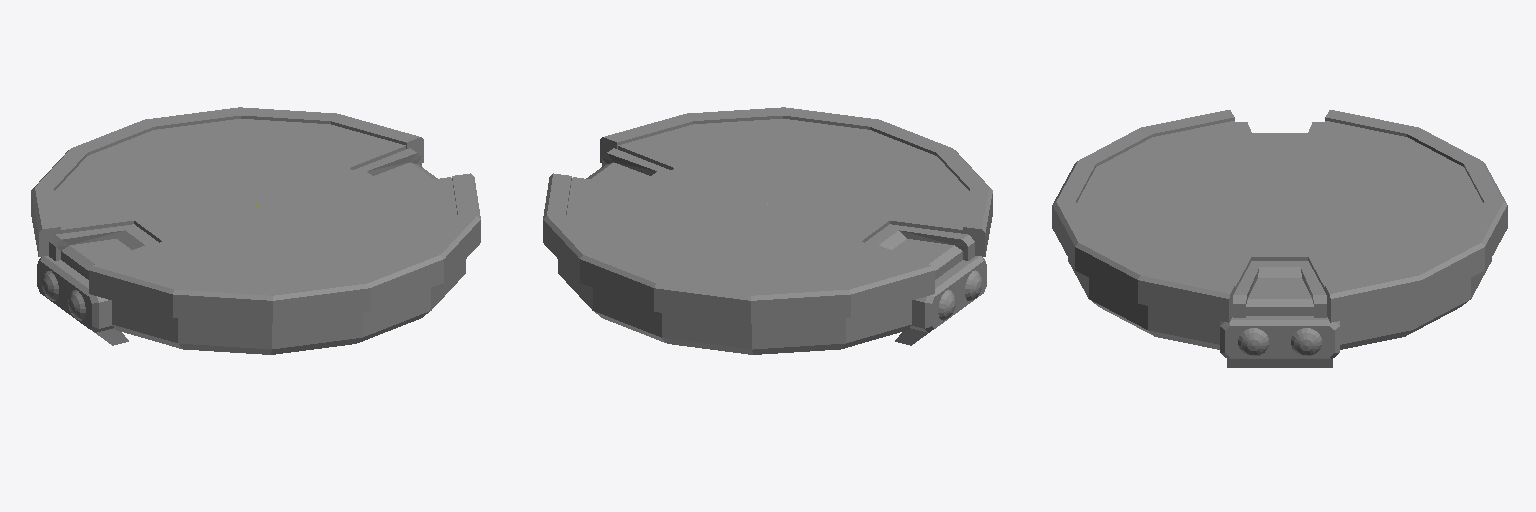
The model's file is cpz_obj_floorA_5b_M.obj.
3 views of the same model, side by side, from view 1: azimuth 30°, elevation 25°; view 2: azimuth 150°, elevation 25°; view 3: azimuth 270°, elevation 25° (orthographic).
Visible parts, largest first — view 1: cpz_metal_tn1_footholdA_floor, ccp_metal_yy_yelow_Cmn_dpn, cpz_metal_tn1_footholdA_001, ccp_etc_yy_light01_IgnoL_d, cpz_etc_tn1_lamp_001; view 2: cpz_metal_tn1_footholdA_floor, ccp_metal_yy_yelow_Cmn_dpn, cpz_metal_tn1_footholdA_001, ccp_etc_yy_light01_IgnoL_d, cpz_etc_tn1_lamp_001; view 3: cpz_metal_tn1_footholdA_floor, ccp_metal_yy_yelow_Cmn_dpn, cpz_metal_tn1_footholdA_001, ccp_etc_yy_light01_IgnoL_d, cpz_etc_tn1_lamp_001.
Boxes of the visible parts, x1=… form: cpz_metal_tn1_footholdA_floor: x1=53, y1=119, x2=465, y2=354; ccp_metal_yy_yelow_Cmn_dpn: x1=31, y1=107, x2=480, y2=323; cpz_metal_tn1_footholdA_001: x1=37, y1=148, x2=451, y2=345; ccp_etc_yy_light01_IgnoL_d: x1=61, y1=162, x2=435, y2=279; cpz_etc_tn1_lamp_001: x1=42, y1=271, x2=85, y2=320; cpz_metal_tn1_footholdA_floor: x1=558, y1=119, x2=970, y2=354; ccp_metal_yy_yelow_Cmn_dpn: x1=543, y1=107, x2=992, y2=323; cpz_metal_tn1_footholdA_001: x1=572, y1=148, x2=986, y2=345; ccp_etc_yy_light01_IgnoL_d: x1=588, y1=162, x2=962, y2=279; cpz_etc_tn1_lamp_001: x1=938, y1=270, x2=981, y2=320; cpz_metal_tn1_footholdA_floor: x1=1068, y1=121, x2=1491, y2=349; ccp_metal_yy_yelow_Cmn_dpn: x1=1052, y1=110, x2=1507, y2=322; cpz_metal_tn1_footholdA_001: x1=1220, y1=122, x2=1339, y2=367; ccp_etc_yy_light01_IgnoL_d: x1=1246, y1=133, x2=1313, y2=315; cpz_etc_tn1_lamp_001: x1=1238, y1=328, x2=1321, y2=356.
Size of the model in its own units: 181 by 47.41 by 180.